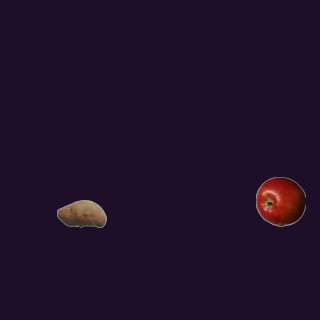Apple Braeburn: (255, 176, 305, 226)
Potato Sweet: (56, 188, 106, 238)
